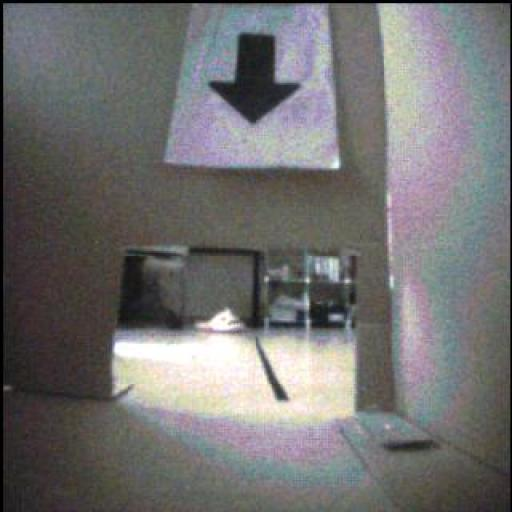arrow: (211, 35, 300, 124)
